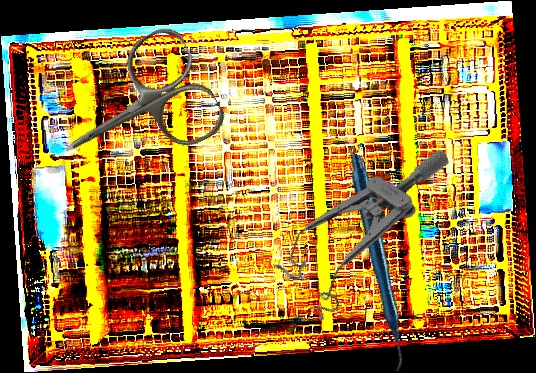Handpiece: (276, 151, 474, 373)
Iris Scissors: (36, 21, 231, 201)
Speculum: (261, 106, 454, 335)
